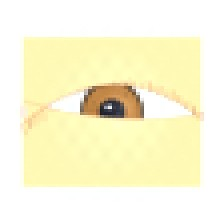pinguecula_lesion: (135, 89, 179, 124)
